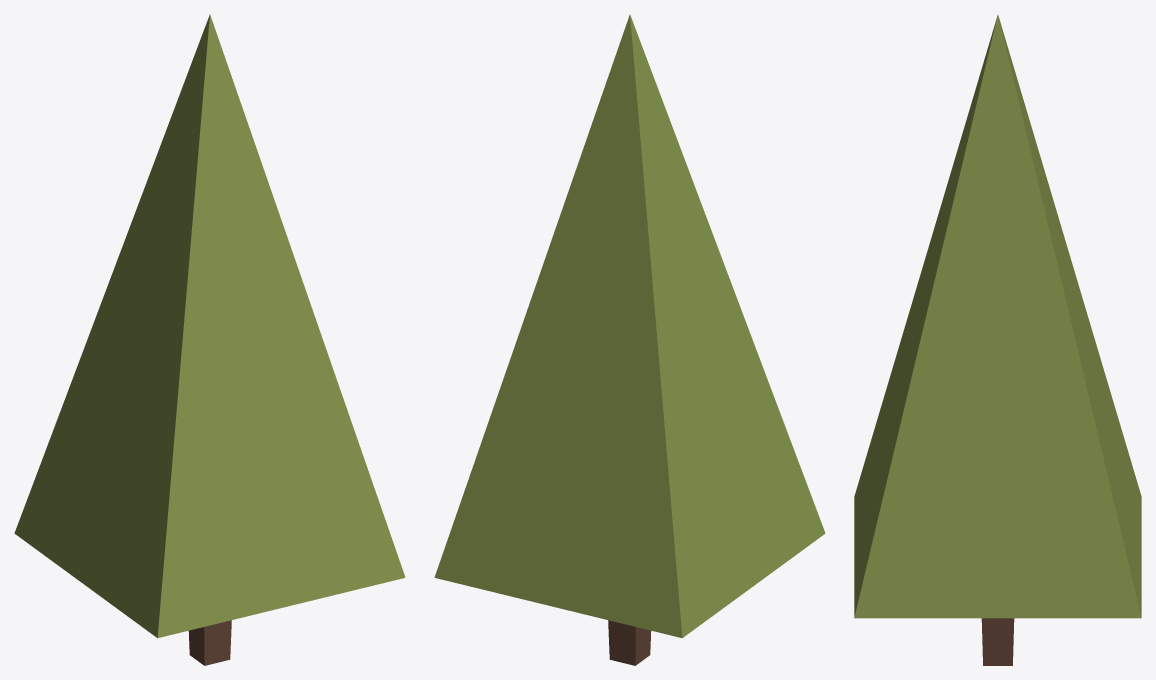
The model's file is tree.glb.
3 renders of one model, left to right at view 1: azimuth 30°, elevation 25°; view 2: azimuth 150°, elevation 25°; view 3: azimuth 270°, elevation 25°, orthographic.
Parts seen in each view (by area): view 1: tree02; view 2: tree02; view 3: tree02.
Boxes of the visible parts, <box> form: tree02: <box>14,14,405,665</box>; tree02: <box>434,14,825,665</box>; tree02: <box>854,15,1141,665</box>.
Size of the model in its own units: 142 by 351 by 142.
1 material, 1 textured.
